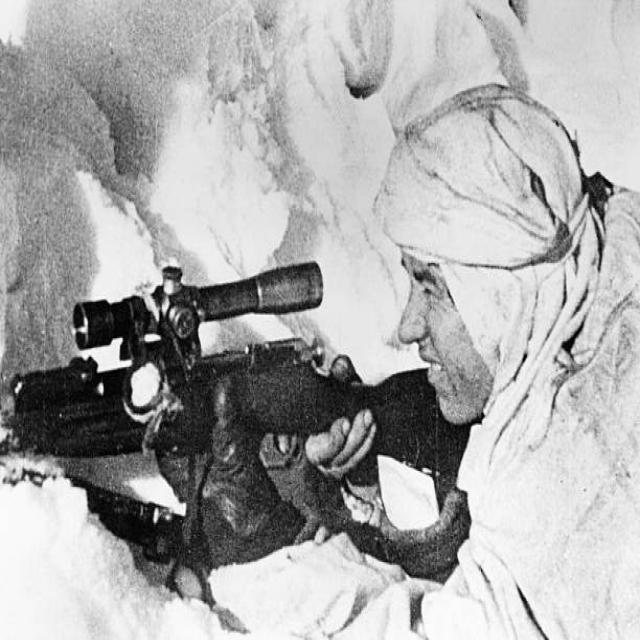soldier: (1, 73, 636, 640)
